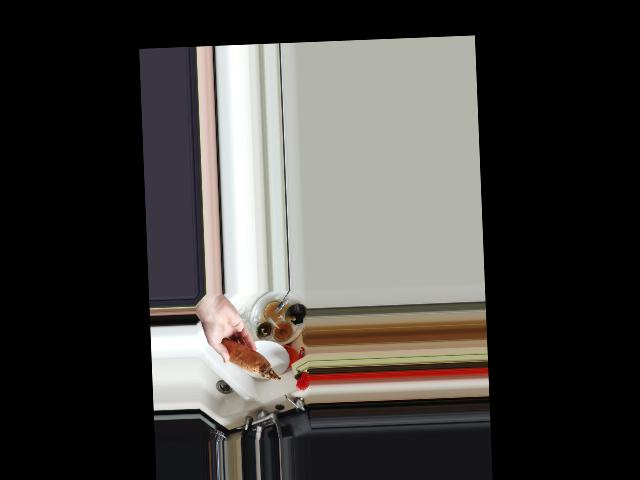sweet_potato: (216, 332, 282, 383)
